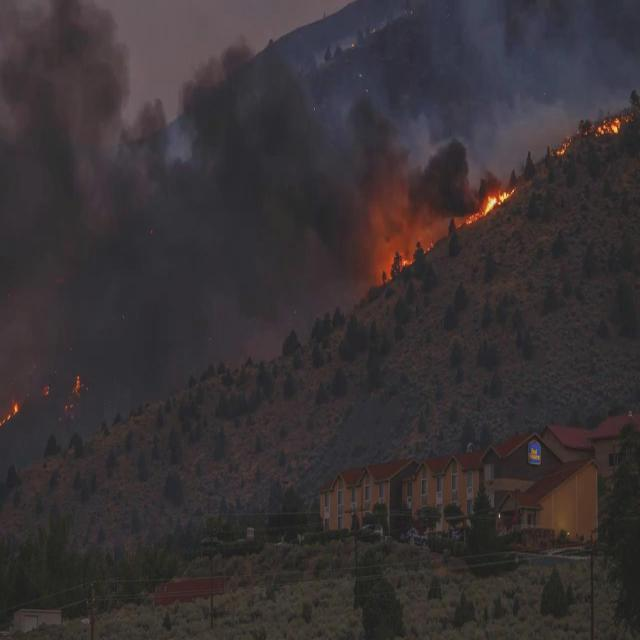Fire: (466, 185, 516, 226), (595, 112, 622, 135), (2, 404, 18, 426), (70, 372, 82, 400), (556, 138, 572, 156), (402, 256, 412, 268)
